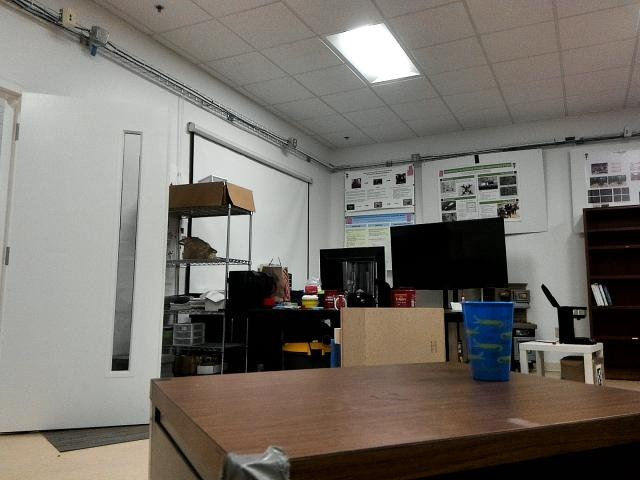water_cup: (461, 296, 523, 389)
